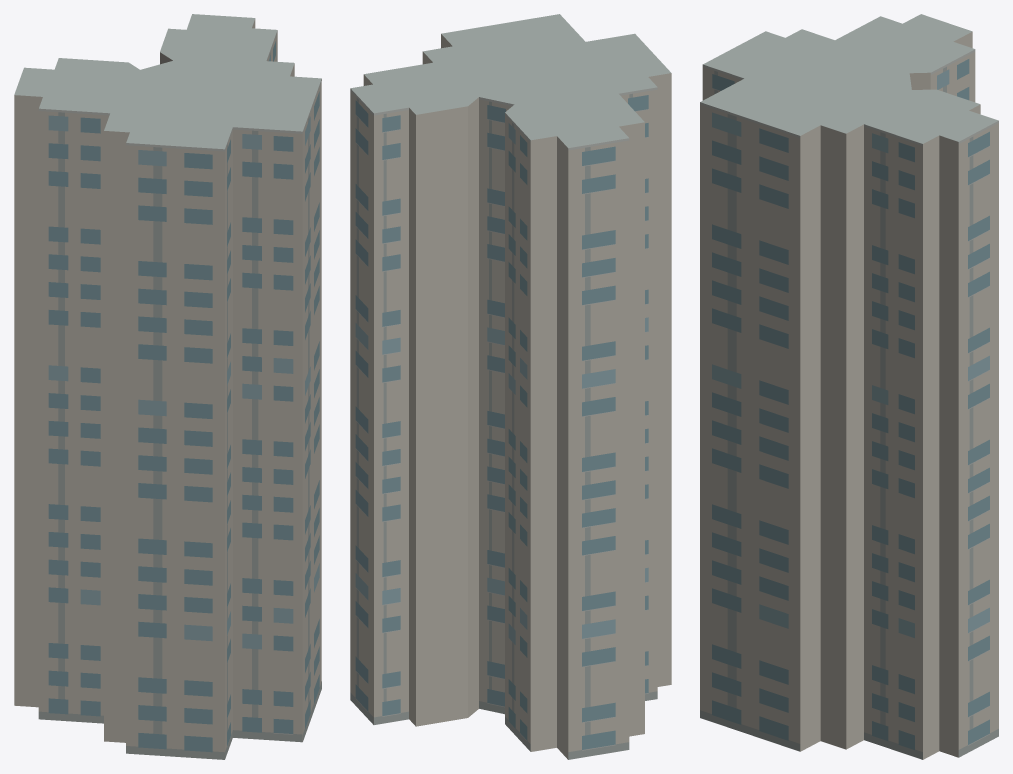
Rendered from residential-5be94a51-7b3e-47b0-9aab-6da8cba0f0c0.glb.
3 views of the same model, side by side, from view 1: azimuth 30°, elevation 25°; view 2: azimuth 150°, elevation 25°; view 3: azimuth 270°, elevation 25° (orthographic).
Visible parts, largest first — view 1: residential-5be94a51-7b3e-47b0-9aab-6da8cba0f0c0.tmp; view 2: residential-5be94a51-7b3e-47b0-9aab-6da8cba0f0c0.tmp; view 3: residential-5be94a51-7b3e-47b0-9aab-6da8cba0f0c0.tmp.
Boxes of the visible parts, x1=… form: residential-5be94a51-7b3e-47b0-9aab-6da8cba0f0c0.tmp: x1=14, y1=14, x2=321, y2=759; residential-5be94a51-7b3e-47b0-9aab-6da8cba0f0c0.tmp: x1=350, y1=14, x2=671, y2=759; residential-5be94a51-7b3e-47b0-9aab-6da8cba0f0c0.tmp: x1=700, y1=14, x2=998, y2=759.
Bounding box in the file's own units: 29 × 64 × 28.15.
